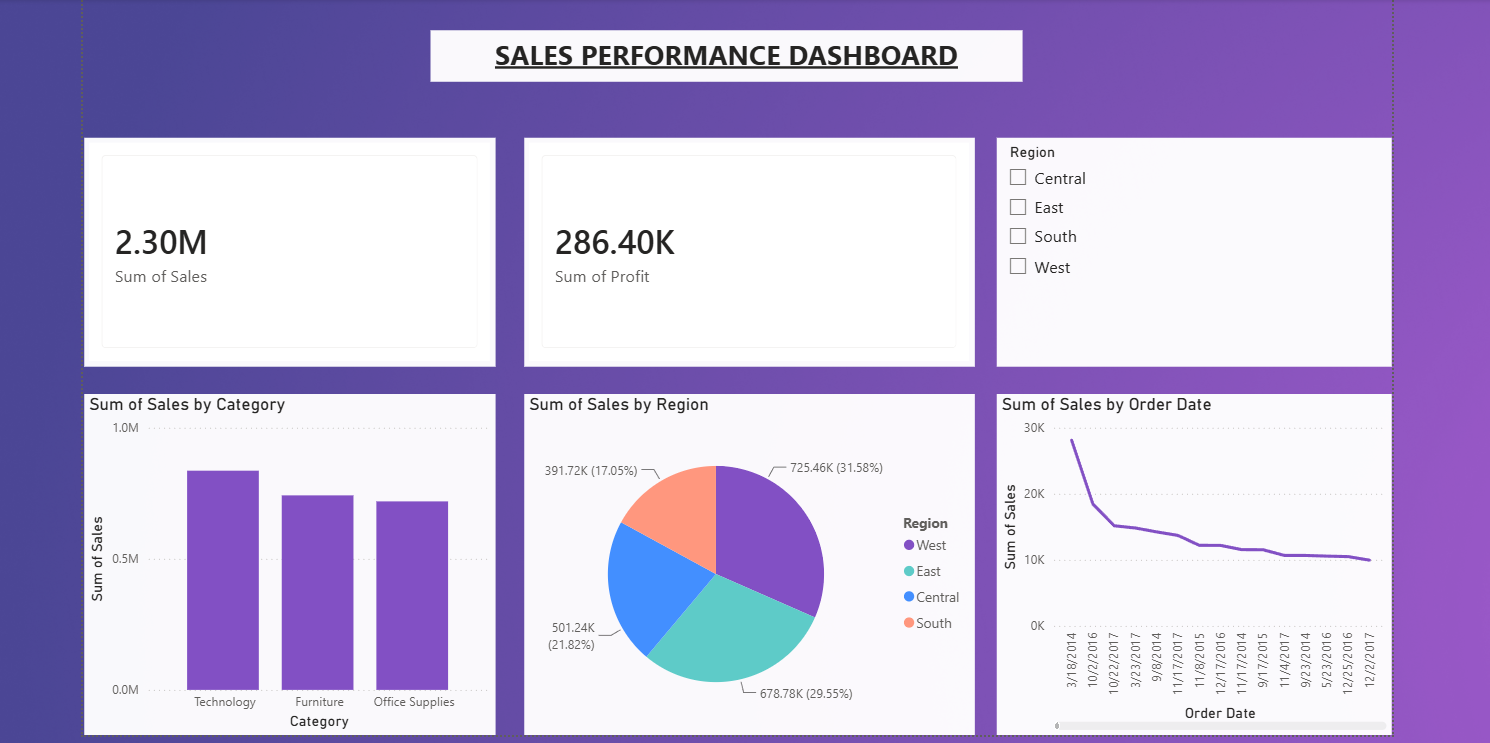

This screenshot's page, from the dashboard's own definition file:
{"tool":"powerbi","page":{"name":"Page 1","canvas":[1280,720],"ordinal":0},"visuals":[{"type":"clusteredColumnChart","fields":{"Y":["Sum(Sample - Superstore.Sales)"],"Category":["Sample - Superstore.Category"]},"box":[34.2,311.8,402.3,333.8],"z":0},{"type":"pieChart","fields":{"Category":["Sample - Superstore.Region","Sample - Superstore.Category"],"Y":["Sum(Sample - Superstore.Sales)"]},"box":[454.9,311.8,393.8,333.8],"z":1},{"type":"lineChart","fields":{"Category":["Sample - Superstore.Order Date"],"Y":["Sum(Sample - Superstore.Sales)"]},"box":[864.5,311.8,370.5,333.8],"z":2},{"type":"cardVisual","fields":{"Data":["Sum(Sample - Superstore.Sales)"]},"box":[34.2,0,402.3,223.8],"z":3},{"type":"cardVisual","fields":{"Data":["Sum(Sample - Superstore.Profit)"]},"box":[481.8,0,393.8,214],"z":4},{"type":"slicer","fields":{"Values":["Sample - Superstore.Region"]},"box":[875.5,14.7,371.7,297.1],"z":5},{"type":"textbox","box":[436.6,234.8,545.4,62.4],"z":6}]}

Visuals, with their boxes on the page's 1280x720 design canvas (x1, y1, x2, y2). These are canvas units, not pixel positions in the 1490x743 screenshot, which may show the page scaled, cropped or inside an application window:
clusteredColumnChart - Sum(Sample - Superstore.Sales) x Sample - Superstore.Category: crop(34, 312, 436, 646)
pieChart - Sample - Superstore.Region x Sample - Superstore.Category: crop(455, 312, 849, 646)
lineChart - Sample - Superstore.Order Date x Sum(Sample - Superstore.Sales): crop(864, 312, 1235, 646)
cardVisual - Sum(Sample - Superstore.Sales): crop(34, 0, 436, 224)
cardVisual - Sum(Sample - Superstore.Profit): crop(482, 0, 876, 214)
slicer - Sample - Superstore.Region: crop(876, 15, 1247, 312)
textbox: crop(437, 235, 982, 297)
